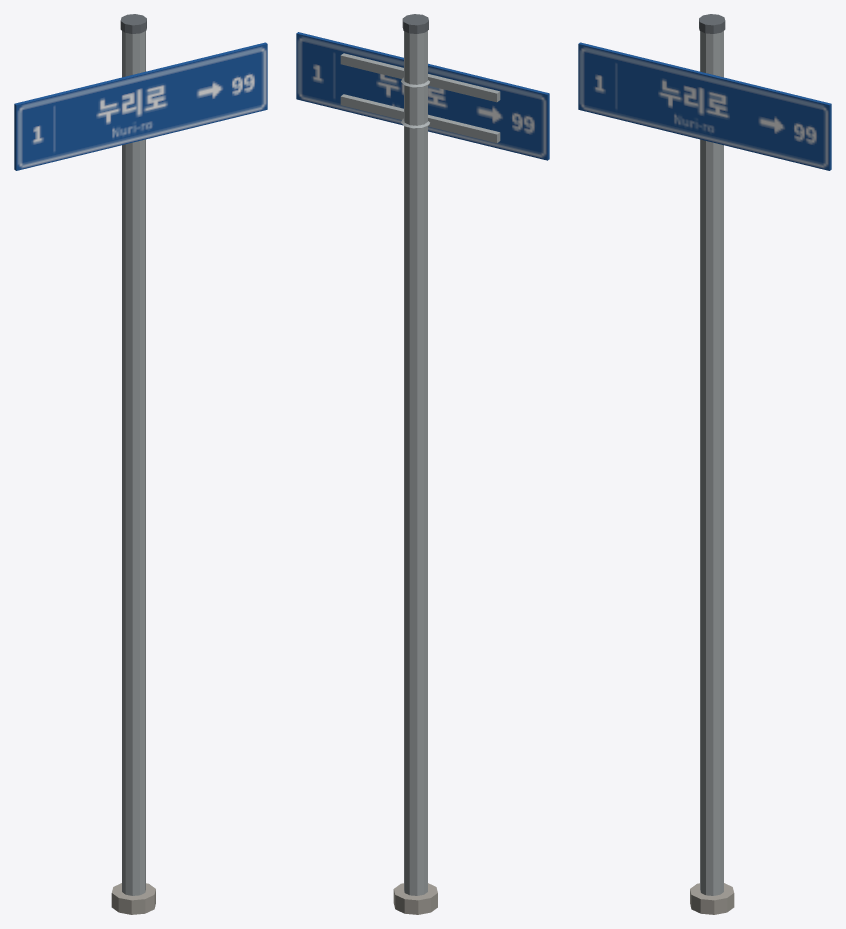
Rendered from SC_Util_Street_Name_Sign.gltf.
3 renders of one model, left to right at view 1: azimuth 30°, elevation 25°; view 2: azimuth 150°, elevation 25°; view 3: azimuth 330°, elevation 25°, orthographic.
Visible parts, largest first — view 1: SC_Util_Street_Name_Sign; view 2: SC_Util_Street_Name_Sign; view 3: SC_Util_Street_Name_Sign.
Boxes of the visible parts, box(x1,y1,x2,y2) form: SC_Util_Street_Name_Sign: box(14, 14, 267, 914); SC_Util_Street_Name_Sign: box(296, 14, 549, 914); SC_Util_Street_Name_Sign: box(578, 14, 831, 914).
Bounding box in the file's own units: 0.9 × 3.03 × 0.14.
2 materials, 2 textured.
